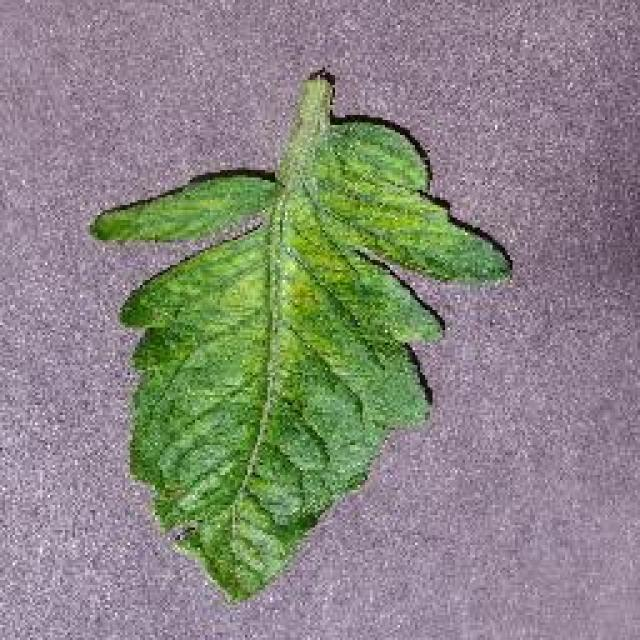Tomato spider mites leaf: (87, 116, 515, 604)
